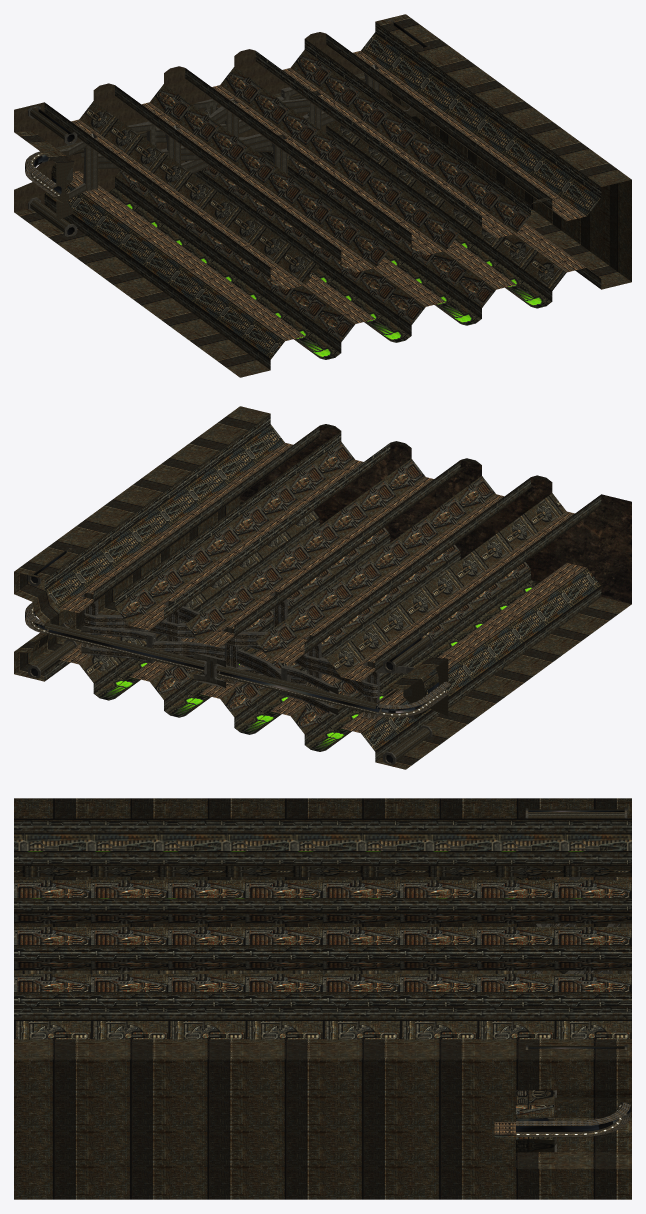
Rendered from CTF-TitanHall.obj.
The picture shows the model from 3 angles, top to bottom: view 1: azimuth 30°, elevation 25°; view 2: azimuth 150°, elevation 25°; view 3: azimuth 270°, elevation 25°; orthographic projection. The views are drawn at different scales.
Parts seen in each view (by area): view 1: Skaarj_Deco_E_mech, Skaarj_Wall_Epips4, Skaarj_Wall_Epipsb, Skaarj_pillar_Ebeam_3, Skaarj_Deco_E_mech3, Skaarj_Deco_E_mech2, Skaarj_Deco_Aa_cl, UTtech1_Misc_UTdirt1, Skaarj_Floor_Xipth, Skaarj_Base_Bs_1, Skaarj_Floor_Ebfloor3; view 2: Skaarj_Wall_Epips4, Skaarj_Deco_E_mech, Skaarj_Wall_Epipsb, Skaarj_pillar_Ebeam_3, GenEarth_Ground_Dirt_sw2, Skaarj_Deco_E_mech3, Skaarj_Deco_E_mech2, Skaarj_Trim_Evwl_3, Skaarj_Deco_Aa_cl, Skaarj_Base_Bs_1, SpaceFX_wormhole, Skaarj_Light_Elight6 (+3 smaller); view 3: Skaarj_Wall_Epipsb, Skaarj_Wall_Epips4, Skaarj_Deco_E_mech, Skaarj_Deco_E_mech2, Skaarj_Deco_E_mech3, Skaarj_Deco_Aa_cl, SpaceFX_wormhole, Skaarj_Wall_Epse, Skaarj_Trim_Evwl_4, Skaarj_Light_Elight6.
Boxes of the visible parts, <box> form: Skaarj_Deco_E_mech: <box>115,49,530,342</box>; Skaarj_Wall_Epips4: <box>30,22,601,369</box>; Skaarj_Wall_Epipsb: <box>14,14,631,377</box>; Skaarj_pillar_Ebeam_3: <box>70,51,586,340</box>; Skaarj_Deco_E_mech3: <box>45,32,600,359</box>; Skaarj_Deco_E_mech2: <box>79,47,566,344</box>; Skaarj_Deco_Aa_cl: <box>109,188,552,359</box>; UTtech1_Misc_UTdirt1: <box>14,21,405,211</box>; Skaarj_Floor_Xipth: <box>69,76,407,199</box>; Skaarj_Base_Bs_1: <box>28,19,429,236</box>; Skaarj_Floor_Ebfloor3: <box>53,107,435,220</box>; Skaarj_Wall_Epips4: <box>32,414,601,761</box>; Skaarj_Deco_E_mech: <box>115,441,530,734</box>; Skaarj_Wall_Epipsb: <box>14,406,631,769</box>; Skaarj_pillar_Ebeam_3: <box>59,443,586,732</box>; GenEarth_Ground_Dirt_sw2: <box>240,425,631,603</box>; Skaarj_Deco_E_mech3: <box>45,424,600,751</box>; Skaarj_Deco_E_mech2: <box>79,439,566,736</box>; Skaarj_Trim_Evwl_3: <box>80,601,377,719</box>; Skaarj_Deco_Aa_cl: <box>93,580,536,751</box>; Skaarj_Base_Bs_1: <box>28,547,432,764</box>; SpaceFX_wormhole: <box>25,550,442,762</box>; Skaarj_Light_Elight6: <box>30,605,446,716</box>; Skaarj_Wall_Epipsb: <box>14,798,631,1199</box>; Skaarj_Wall_Epips4: <box>14,809,631,1120</box>; Skaarj_Deco_E_mech: <box>14,880,631,1117</box>; Skaarj_Deco_E_mech2: <box>14,866,631,1039</box>; Skaarj_Deco_E_mech3: <box>14,833,631,1139</box>; Skaarj_Deco_Aa_cl: <box>14,851,631,992</box>; SpaceFX_wormhole: <box>516,810,630,1131</box>; Skaarj_Wall_Epse: <box>516,1090,554,1152</box>; Skaarj_Trim_Evwl_4: <box>516,1102,630,1136</box>; Skaarj_Light_Elight6: <box>516,970,627,1136</box>.
Size of the model in its own units: 317 by 82.91 by 312.
